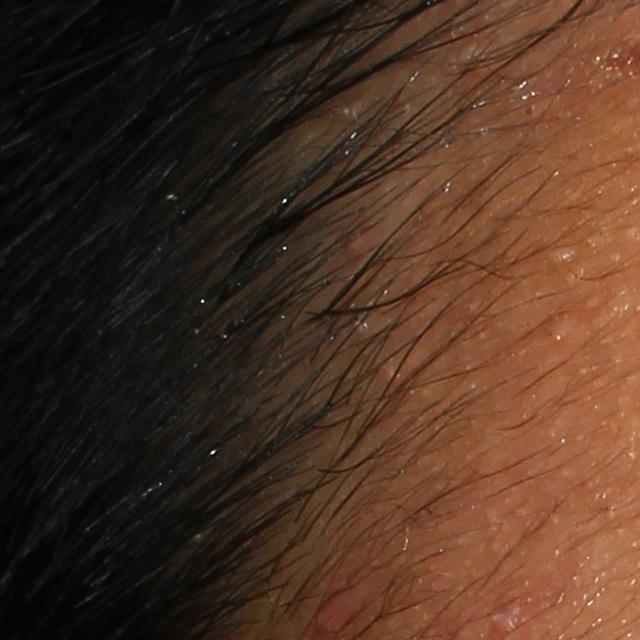comedo: (443, 30, 490, 77), (538, 243, 575, 273), (544, 310, 575, 344)
papule: (490, 596, 529, 637), (338, 224, 378, 260)
